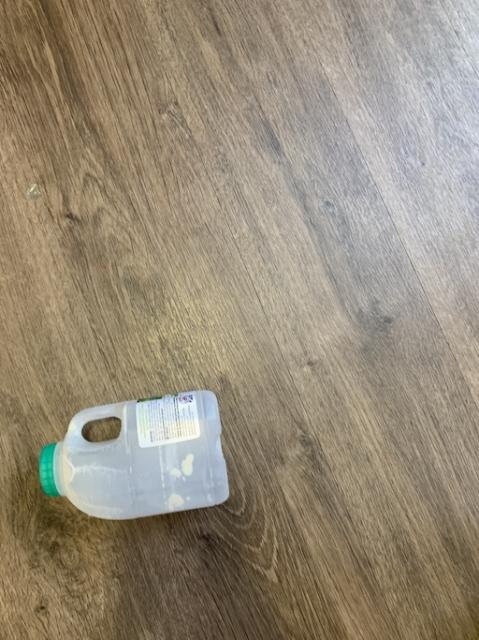plastic: (38, 390, 228, 517)
